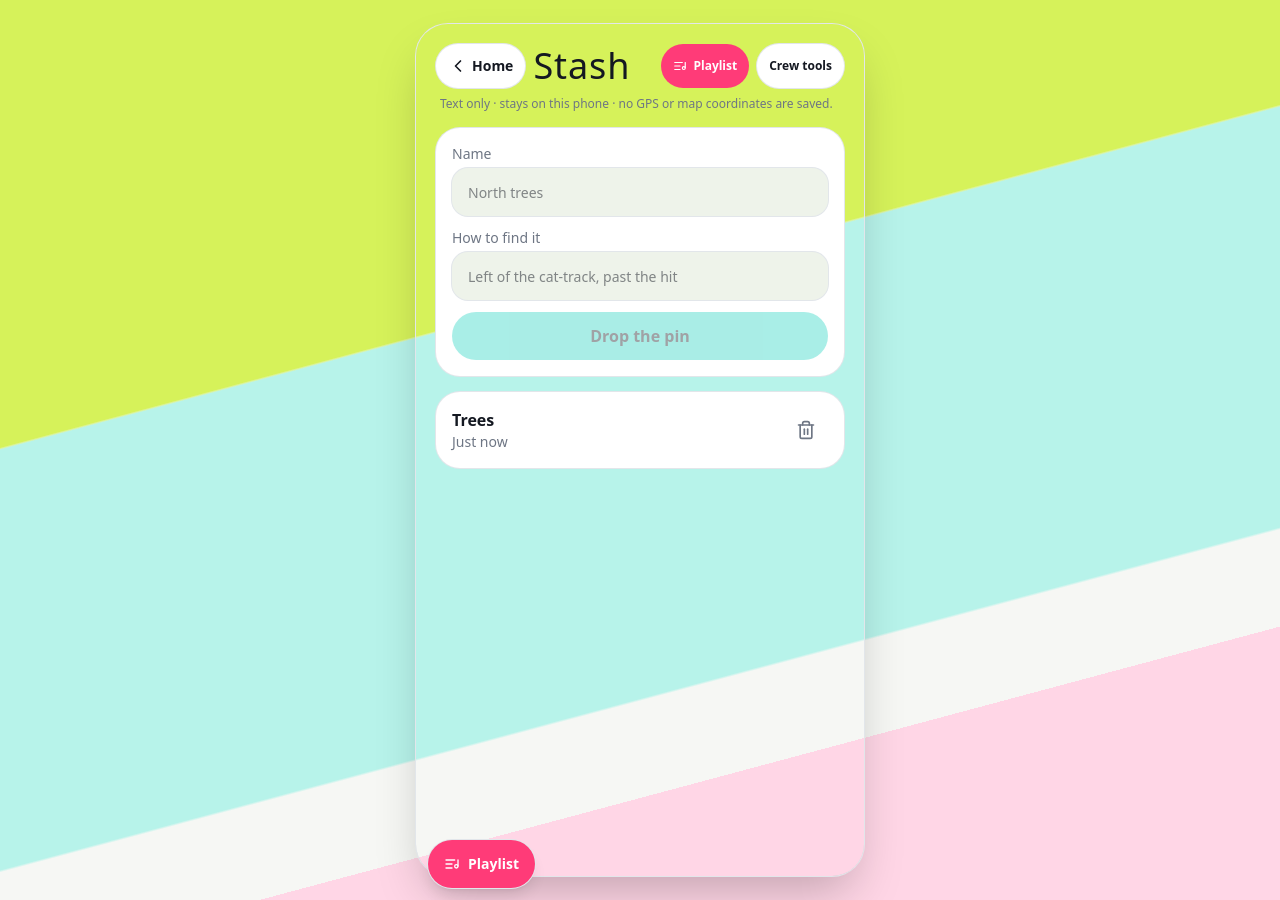
Stash screen › remove confirm focuses Keep pin (safe default)
The image size is (1280, 900).
Step 1. Click the button named "Remove Trees" → (806, 430), box 784,408 -> 828,452
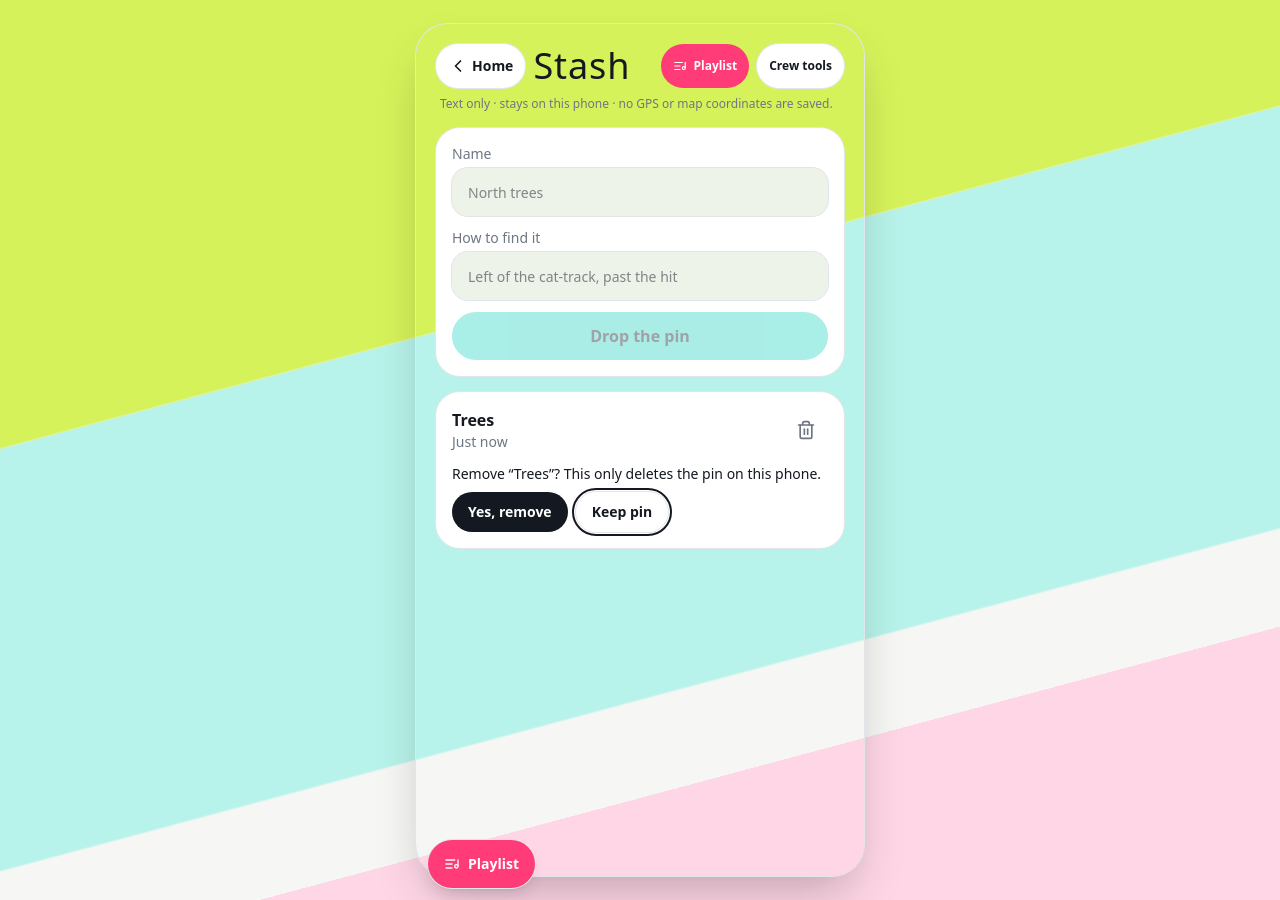
Result: the button "Keep pin" is shown at 576,492 -> 668,532
